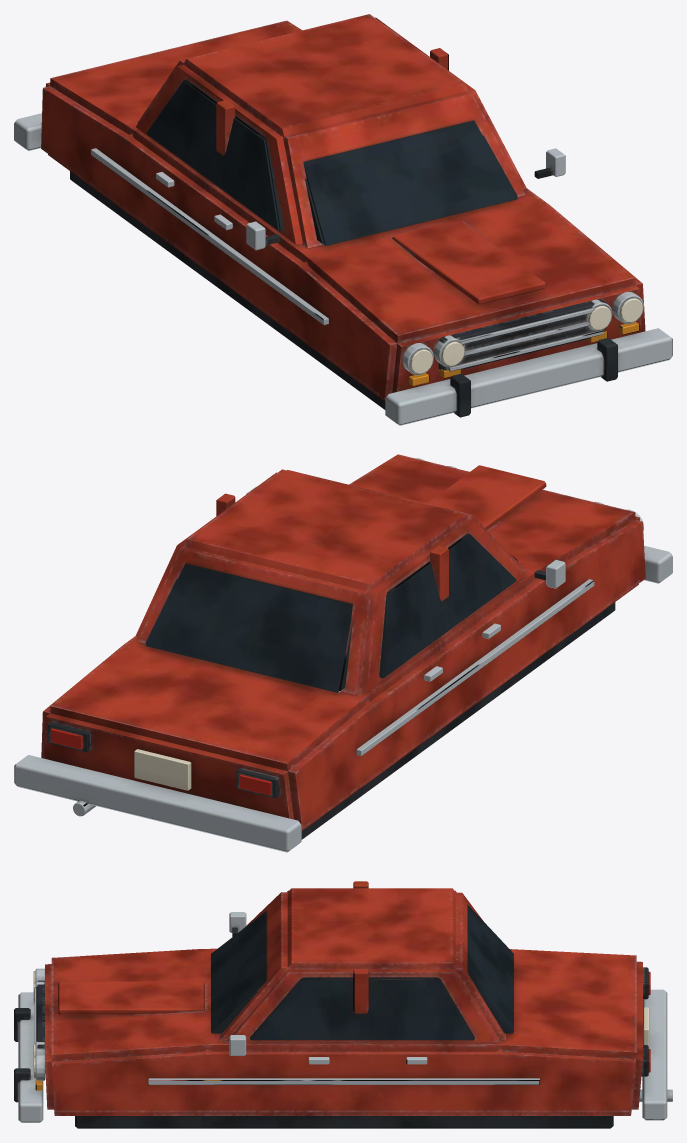
Rendered from rusted_car_shell.glb.
The picture shows the model from 3 angles, top to bottom: view 1: azimuth 30°, elevation 25°; view 2: azimuth 150°, elevation 25°; view 3: azimuth 270°, elevation 25°; orthographic projection. The views are drawn at different scales.
Visible parts, largest first — view 1: RustedCarShell; view 2: RustedCarShell; view 3: RustedCarShell.
Boxes of the visible parts, left/top/right/bottom form: RustedCarShell: left=14, top=14, right=672, bottom=425; RustedCarShell: left=14, top=454, right=672, bottom=852; RustedCarShell: left=14, top=881, right=672, bottom=1128.
Size of the model in its own units: 2.16 by 1.24 by 4.71.
1 material, 1 textured.
